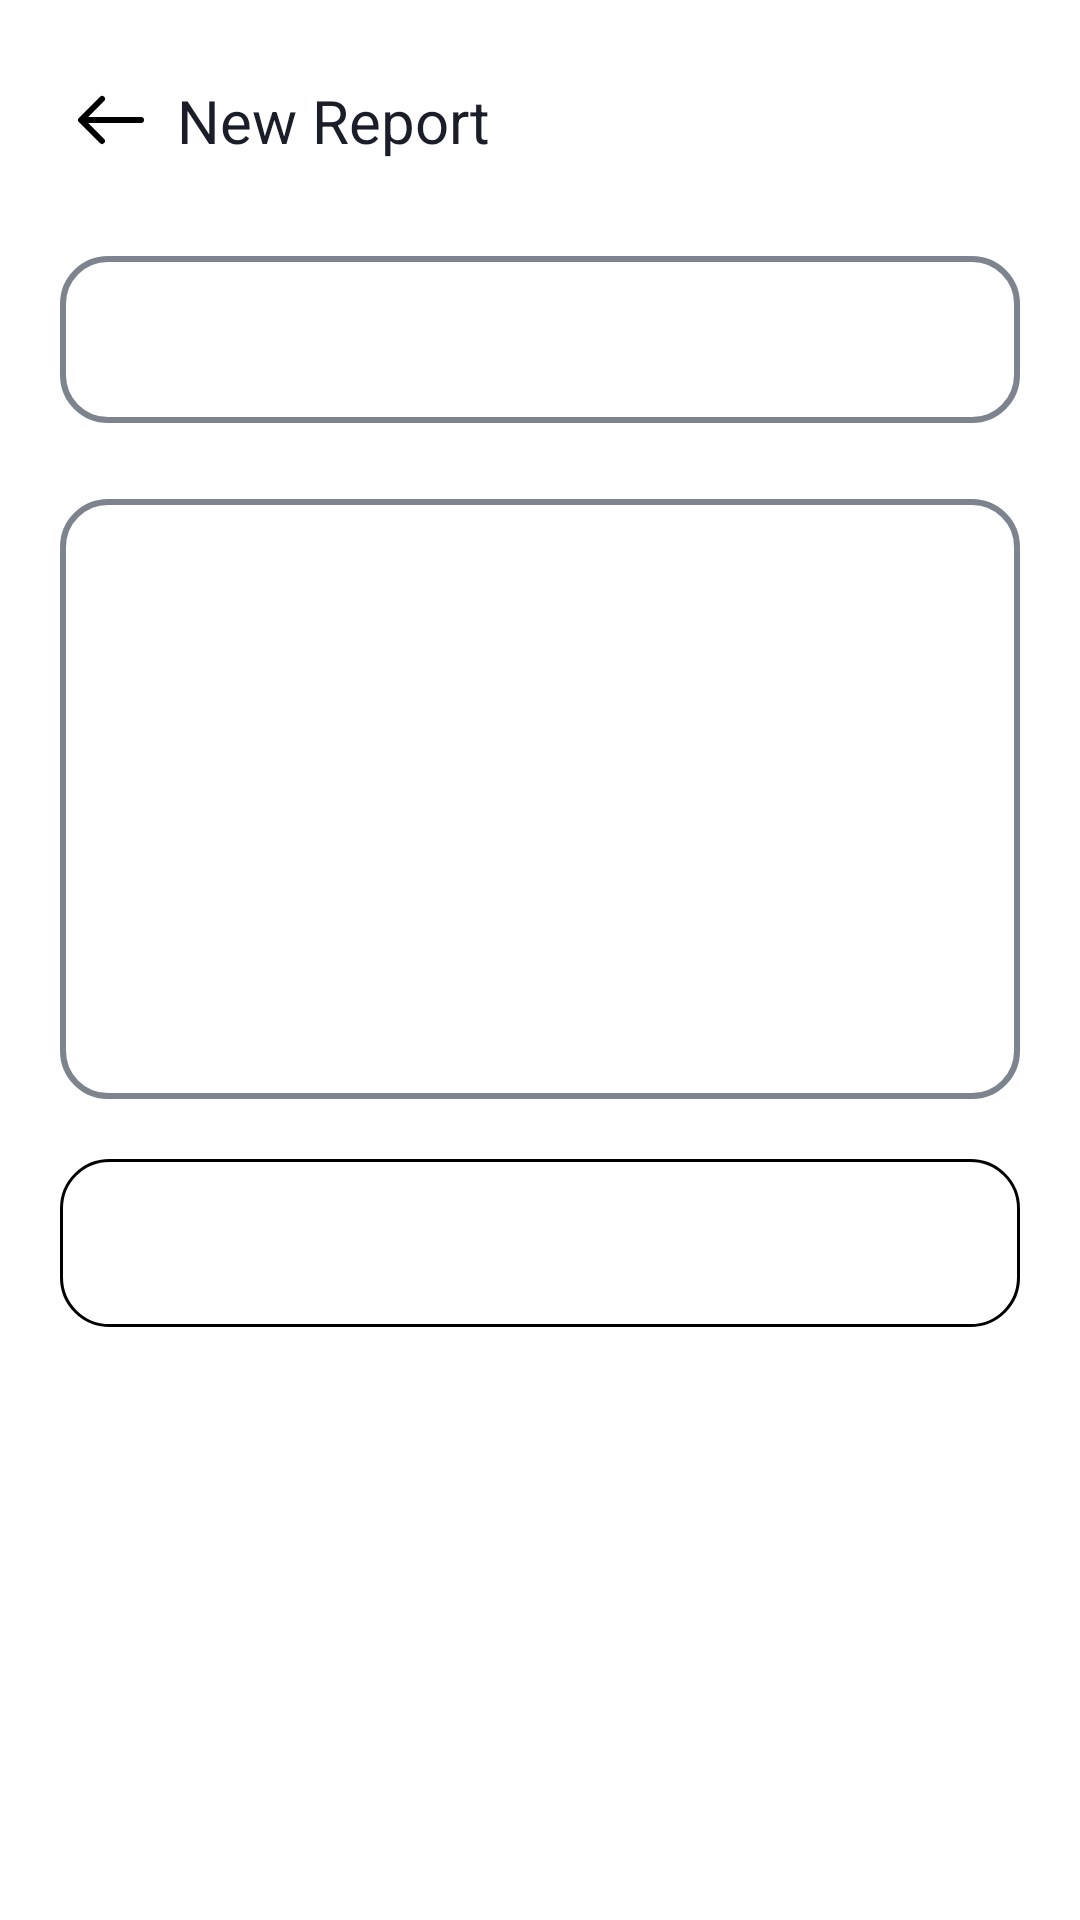

Icons on this 1080w x 1920h Android screen, each with its box as [x1,y1,x2,y2]:
back: [78,95,144,144]
